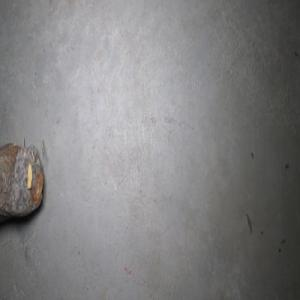Rock: (0, 137, 43, 222)
